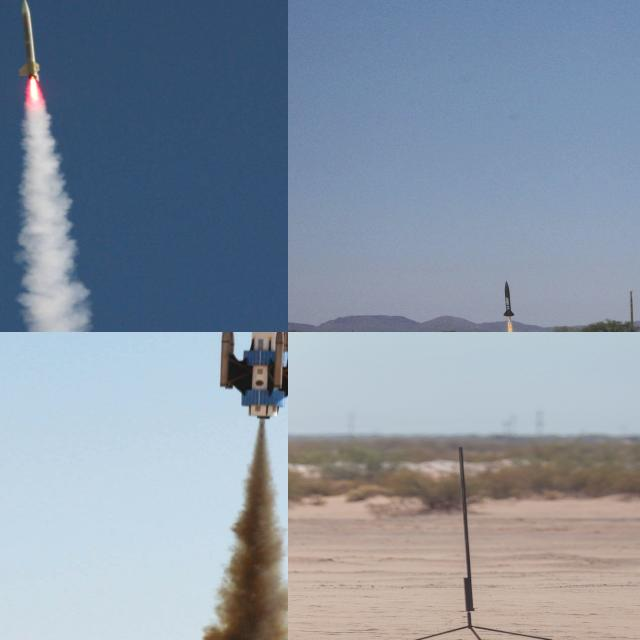Rocket: (19, 0, 40, 82), (504, 280, 514, 316)
